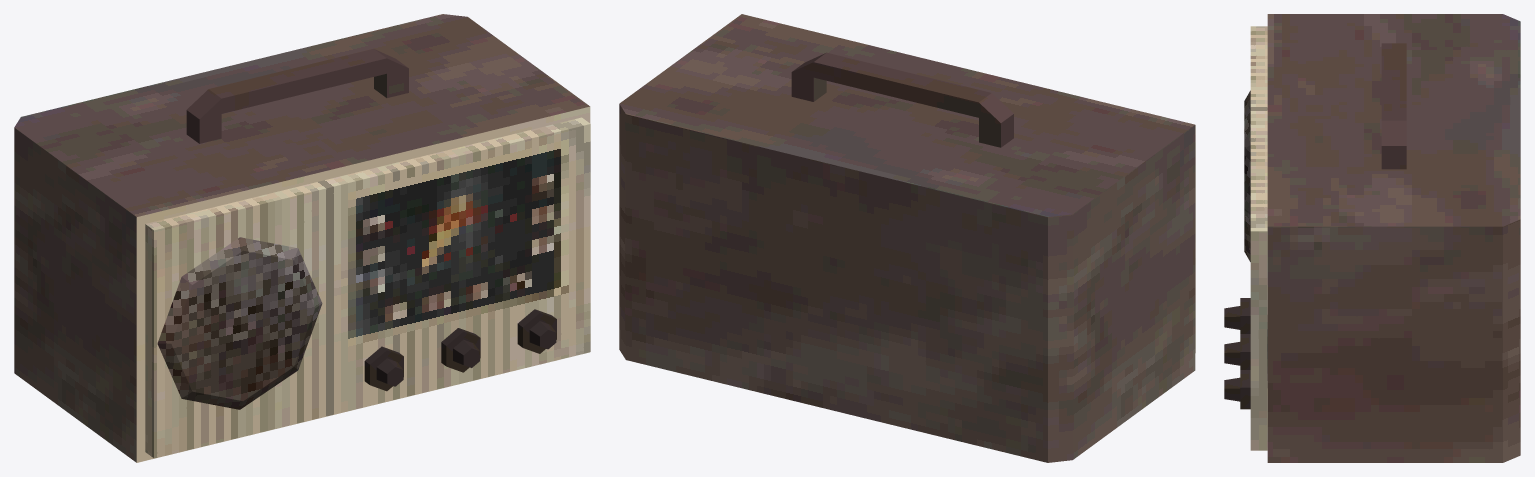
File: apartment_radio.glb
3 renders of one model, left to right at view 1: azimuth 30°, elevation 25°; view 2: azimuth 150°, elevation 25°; view 3: azimuth 270°, elevation 25°, orthographic. The views are drawn at different scales.
Parts seen in each view (by area): view 1: radio; view 2: radio; view 3: radio.
Boxes of the visible parts, x1,y1,x2,y2 form: radio: (14, 14, 590, 462); radio: (619, 14, 1195, 462); radio: (1224, 14, 1520, 462).
Size of the model in its own units: 0.3844 by 0.2314 by 0.2262.
1 material, 1 textured.
